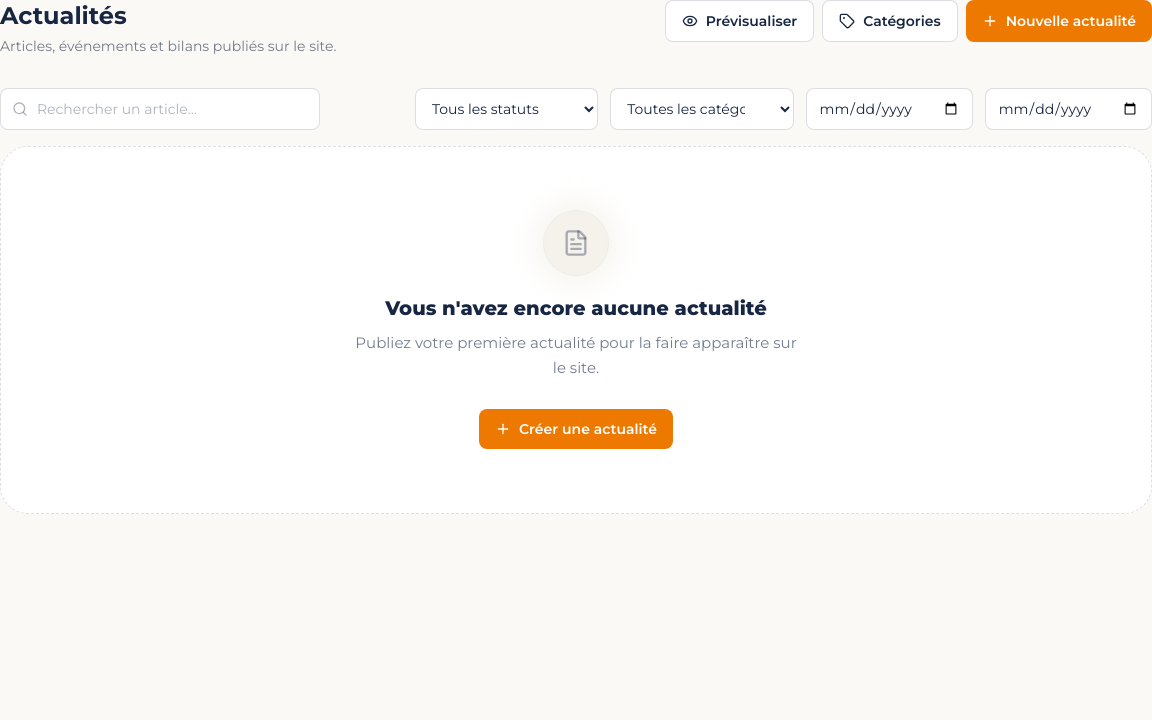
Test: NewsAdmin › validates the form before sending anything to the API
The width and height of the screenshot is (1152, 720).
Step 1. Click the button "Nouvelle actualité" → (1059, 21), box [966,0,1151,42]
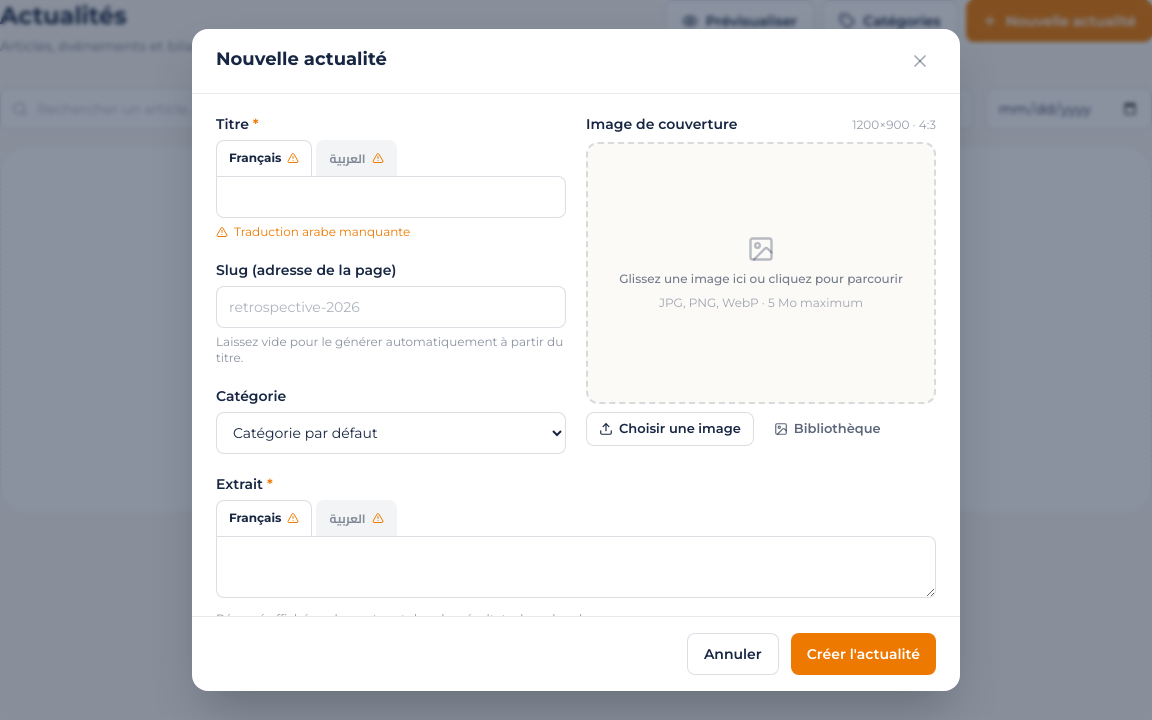
Step 2. Click the button "Créer l'actualité" → (863, 654), box [791,633,936,675]
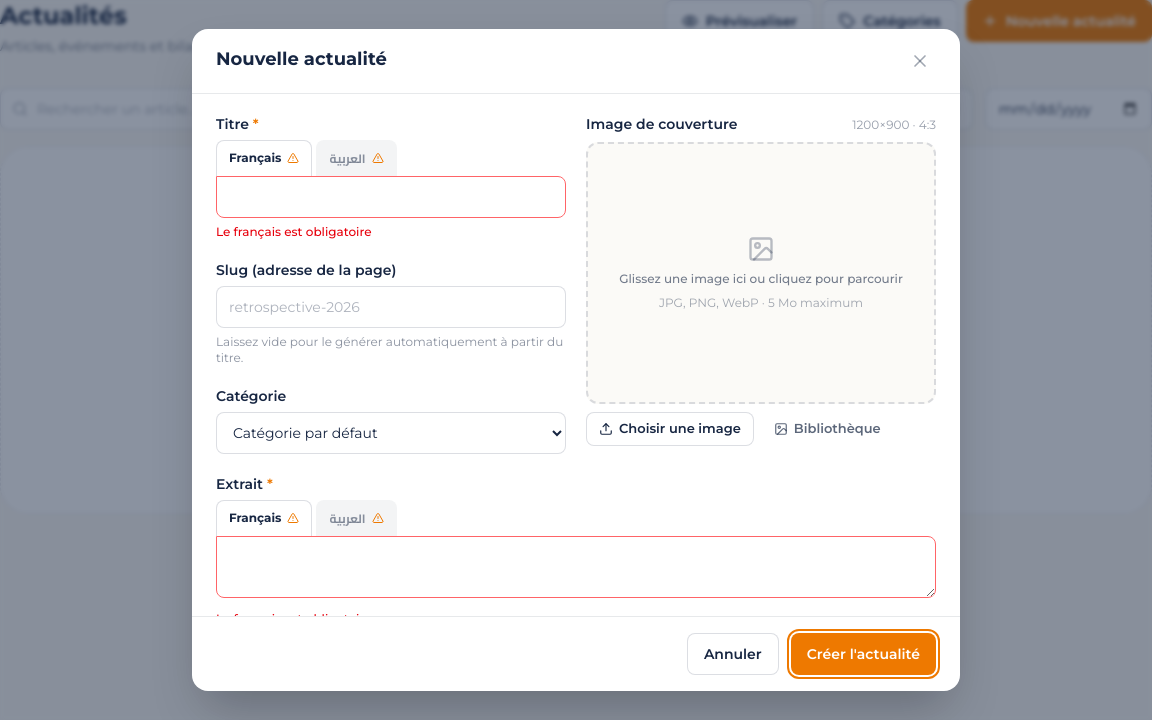
Check: the text "Le français est obligatoire" is shown 3 times
